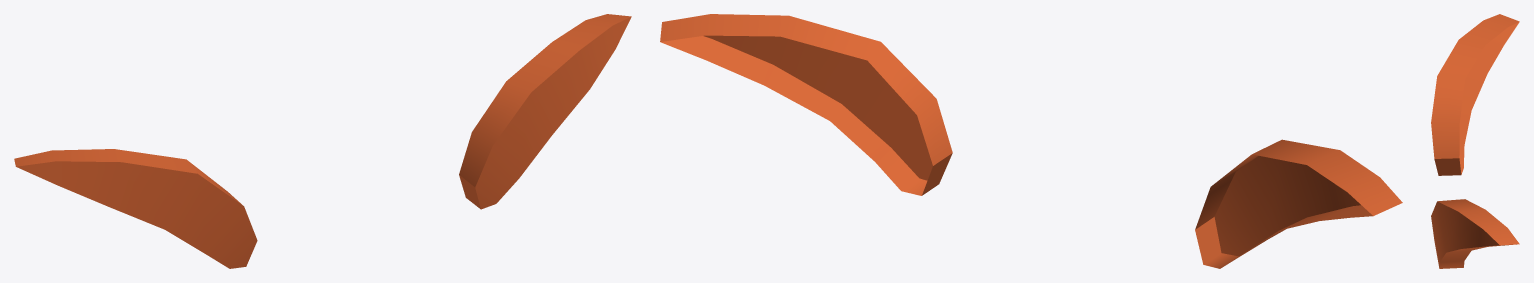
File: Eyebrow_11.fbx
3 views of the same model, side by side, from view 1: azimuth 30°, elevation 25°; view 2: azimuth 150°, elevation 25°; view 3: azimuth 270°, elevation 25° (orthographic). The views are drawn at different scales.
Parts seen in each view (by area): view 1: Eyebrow_11; view 2: Eyebrow_11; view 3: Eyebrow_11.
Part boxes in pixels (x1,y1,x2,y2): Eyebrow_11: (14,14,631,268); Eyebrow_11: (660,14,1402,268); Eyebrow_11: (1431,14,1519,268).
Bounding box in the file's own units: 27.94 × 5.35 × 4.54.
